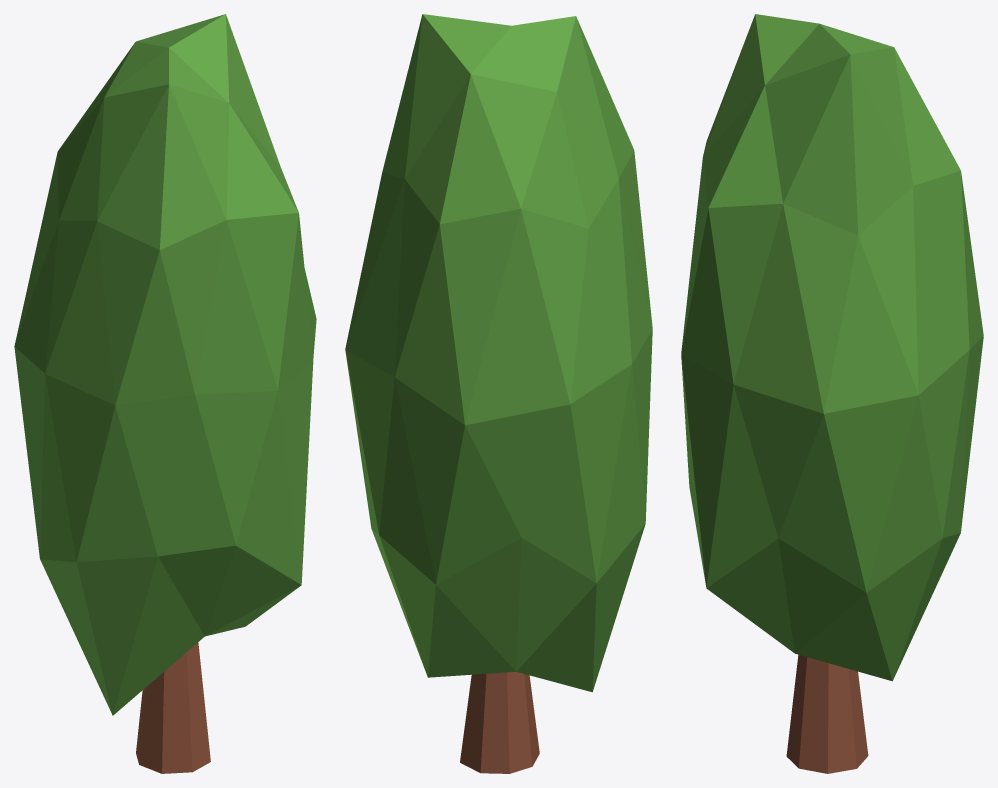
Rendered from Tree_05_summer_pal.fbx.
3 views of the same model, side by side, from view 1: azimuth 30°, elevation 25°; view 2: azimuth 150°, elevation 25°; view 3: azimuth 270°, elevation 25° (orthographic). The views are drawn at different scales.
Parts seen in each view (by area): view 1: Tree_05_summer_pal; view 2: Tree_05_summer_pal; view 3: Tree_05_summer_pal.
Boxes of the visible parts, x1,y1,x2,y2 form: Tree_05_summer_pal: (14, 14, 316, 773); Tree_05_summer_pal: (345, 14, 652, 773); Tree_05_summer_pal: (681, 14, 983, 773).
Size of the model in its own units: 104 by 266 by 99.25.
